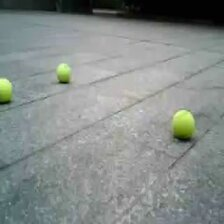tennis: (171, 109, 194, 140), (1, 78, 13, 103), (56, 64, 71, 82)
